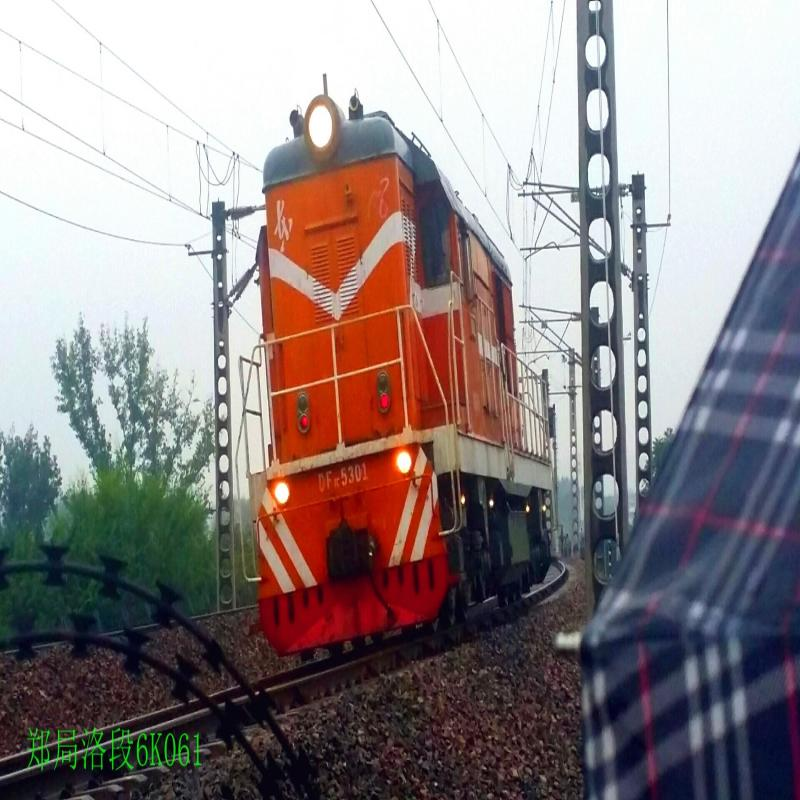train: (222, 29, 574, 655)
